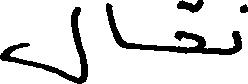X: (0, 2, 78, 83), (178, 0, 205, 58), (108, 0, 122, 52), (235, 0, 247, 57)
